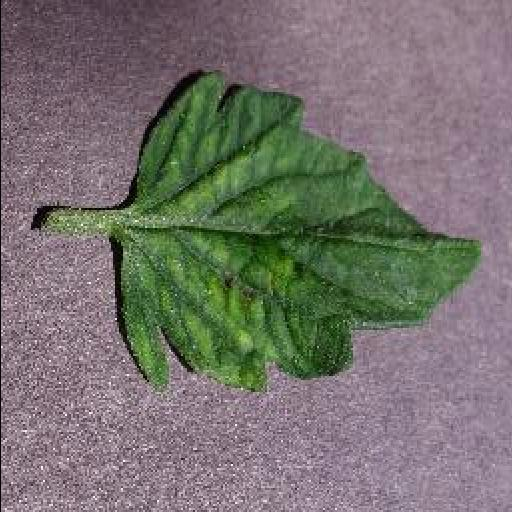disease_tomato: (116, 68, 486, 396)
